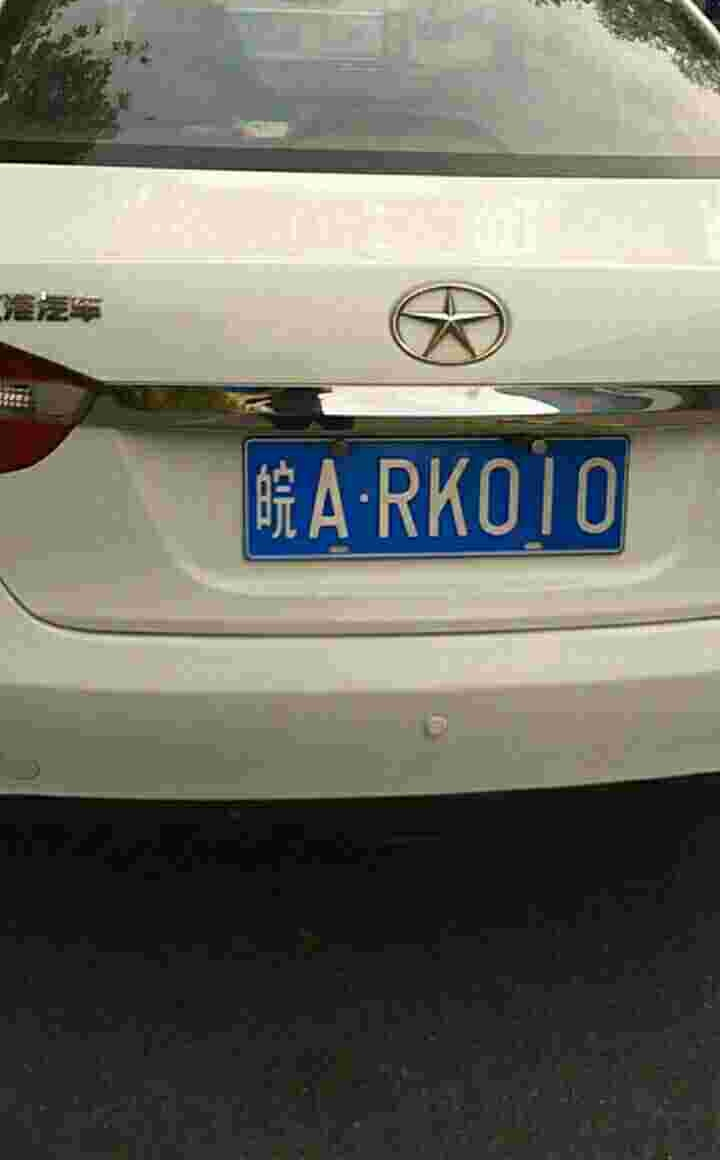license_plate: (244, 427, 630, 558)
